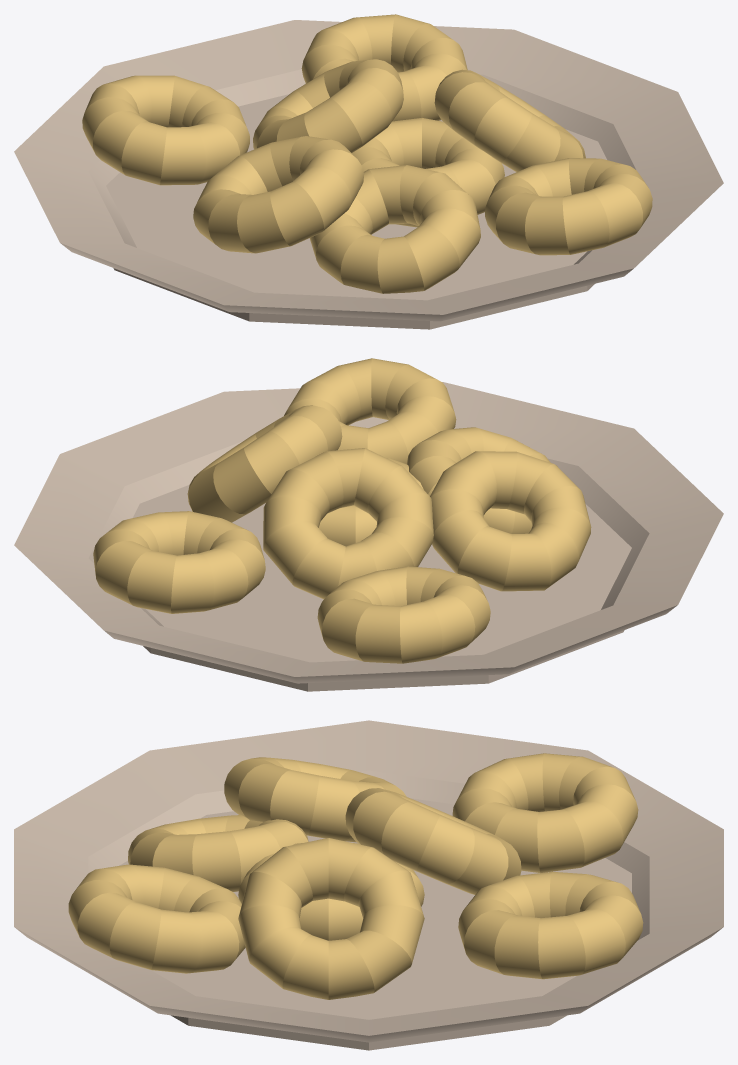
File: Calamari.fbx
3 views of the same model, one above another, from view 1: azimuth 30°, elevation 25°; view 2: azimuth 150°, elevation 25°; view 3: azimuth 270°, elevation 25° (orthographic). The views are drawn at different scales.
Visible parts, largest first — view 1: Calamari; view 2: Calamari; view 3: Calamari.
Boxes of the visible parts, <box> form: Calamari: <box>14,14,723,329</box>; Calamari: <box>14,358,723,691</box>; Calamari: <box>14,720,723,1050</box>.
Size of the model in its own units: 121 by 23.27 by 116.
